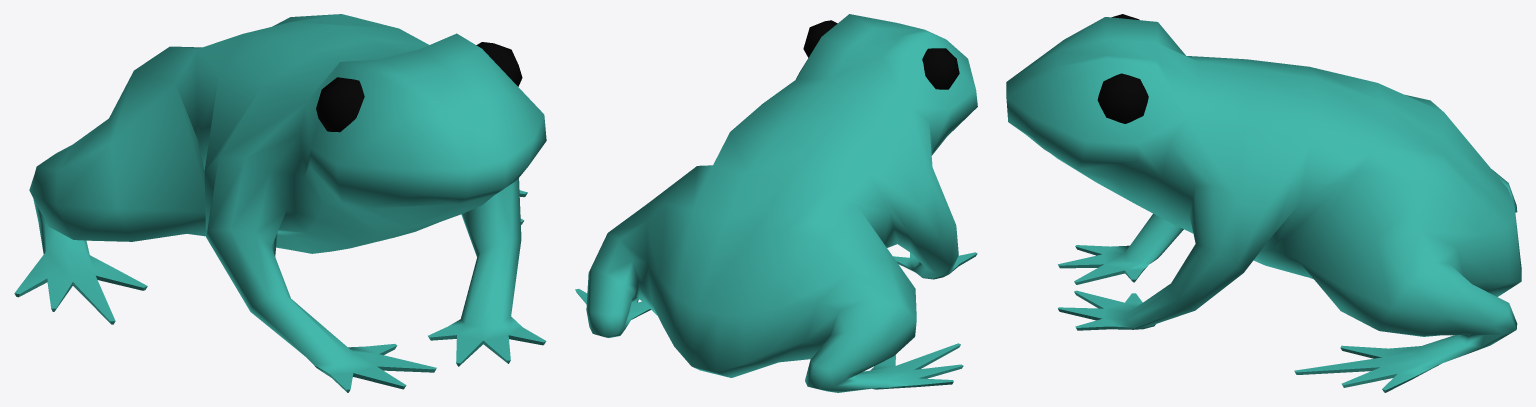
File: frog.glb
3 views of the same model, side by side, from view 1: azimuth 30°, elevation 25°; view 2: azimuth 150°, elevation 25°; view 3: azimuth 270°, elevation 25° (orthographic). The views are drawn at different scales.
Parts seen in each view (by area): view 1: Frog_1; view 2: Frog_1; view 3: Frog_1.
Boxes of the visible parts, <box> form: Frog_1: <box>14,14,546,392</box>; Frog_1: <box>575,14,977,392</box>; Frog_1: <box>1006,14,1521,392</box>.
Size of the model in its own units: 0.2265 by 0.1278 by 0.2374.
